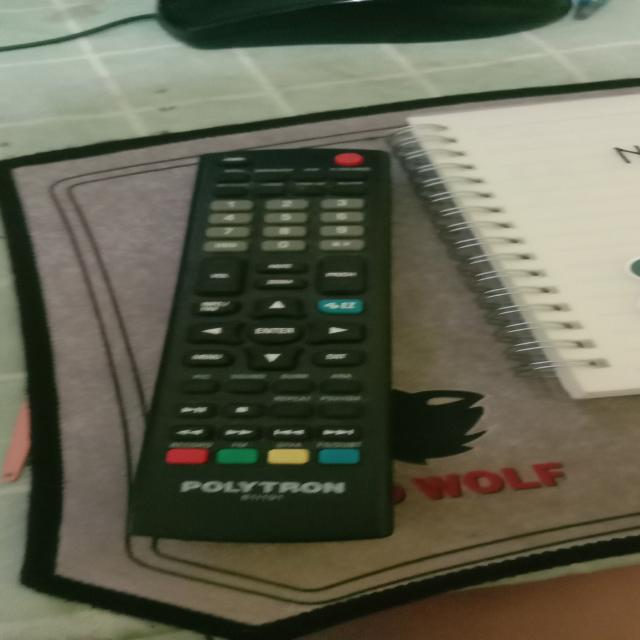remote: (98, 145, 400, 552)
